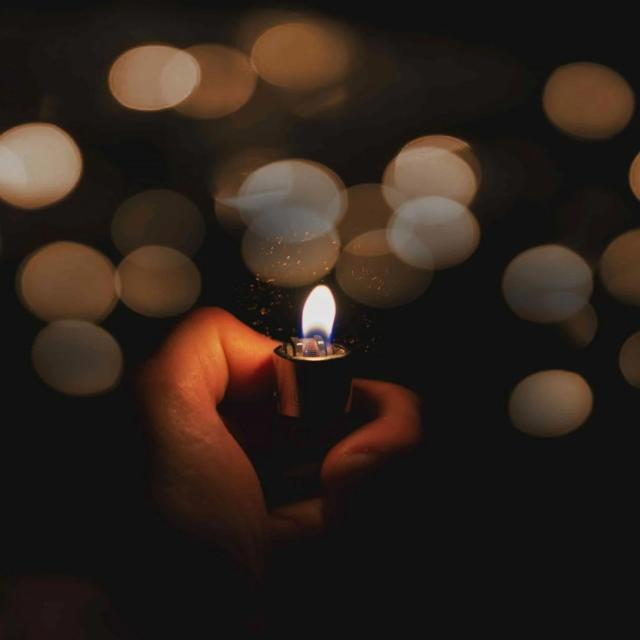fire: (302, 284, 336, 344)
